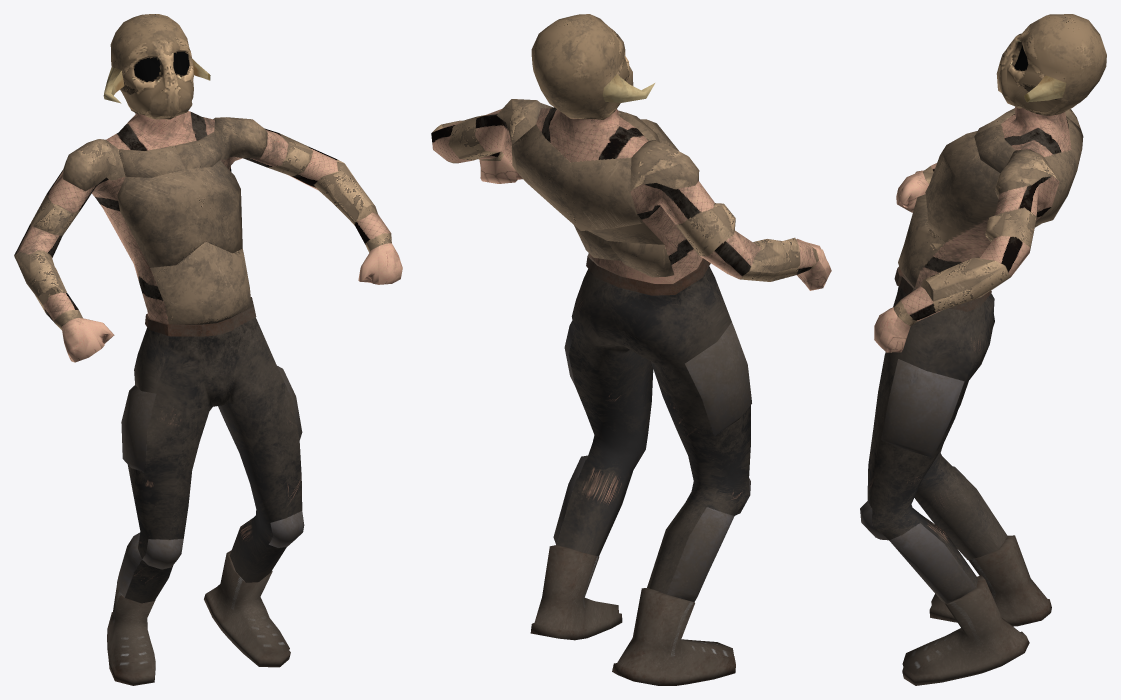
The model's file is Anim_morir_npc1.0015.obj.
3 renders of one model, left to right at view 1: azimuth 30°, elevation 25°; view 2: azimuth 150°, elevation 25°; view 3: azimuth 270°, elevation 25°, orthographic. The views are drawn at different scales.
Parts seen in each view (by area): view 1: NPC2; view 2: NPC2; view 3: NPC2.
Part boxes in pixels (x1,y1,x2,y2): NPC2: [14, 14, 402, 685]; NPC2: [431, 14, 831, 685]; NPC2: [860, 14, 1106, 685].
Size of the model in its own units: 4.96 by 8.88 by 3.13.
